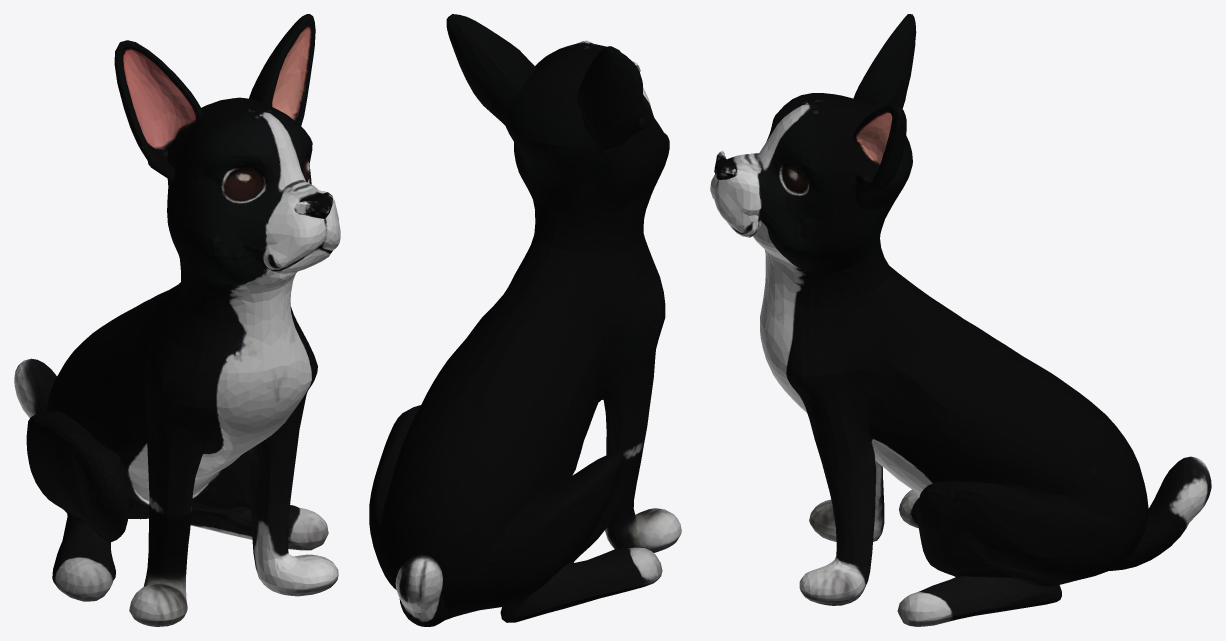
Rendered from banjo.glb.
3 renders of one model, left to right at view 1: azimuth 30°, elevation 25°; view 2: azimuth 150°, elevation 25°; view 3: azimuth 270°, elevation 25°, orthographic. The views are drawn at different scales.
Visible parts, largest first — view 1: world; view 2: world; view 3: world.
Part boxes in pixels (x1,y1,x2,y2): world: (14,14,340,626); world: (369,14,681,626); world: (710,14,1211,626).
Bounding box in the file's own units: 0.4883 × 1 × 0.8576.
Materials: 1 (1 with a texture image).
